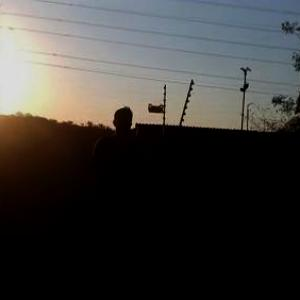follow: (87, 101, 143, 275)
